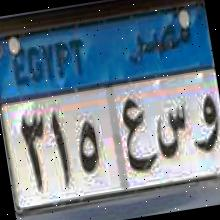1: (46, 107, 78, 190)
3: (14, 104, 54, 195)
5: (69, 112, 106, 182)
ain: (115, 86, 159, 178)
seen: (148, 97, 192, 163)
waw: (183, 81, 220, 157)
